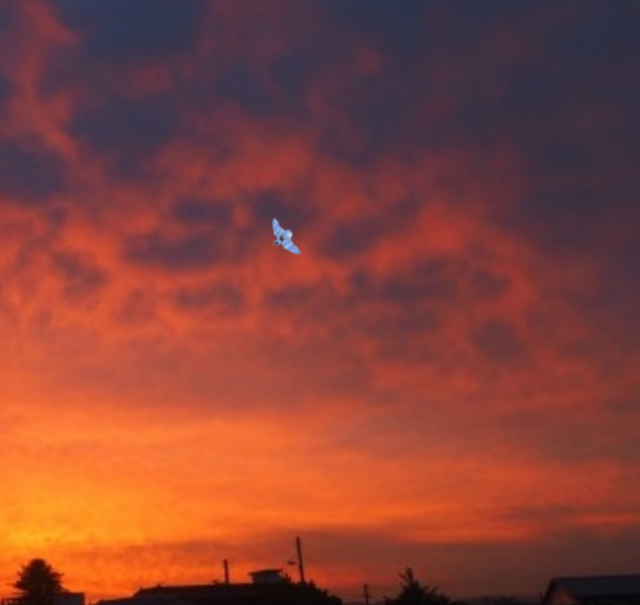military drone: (271, 217, 301, 254)
